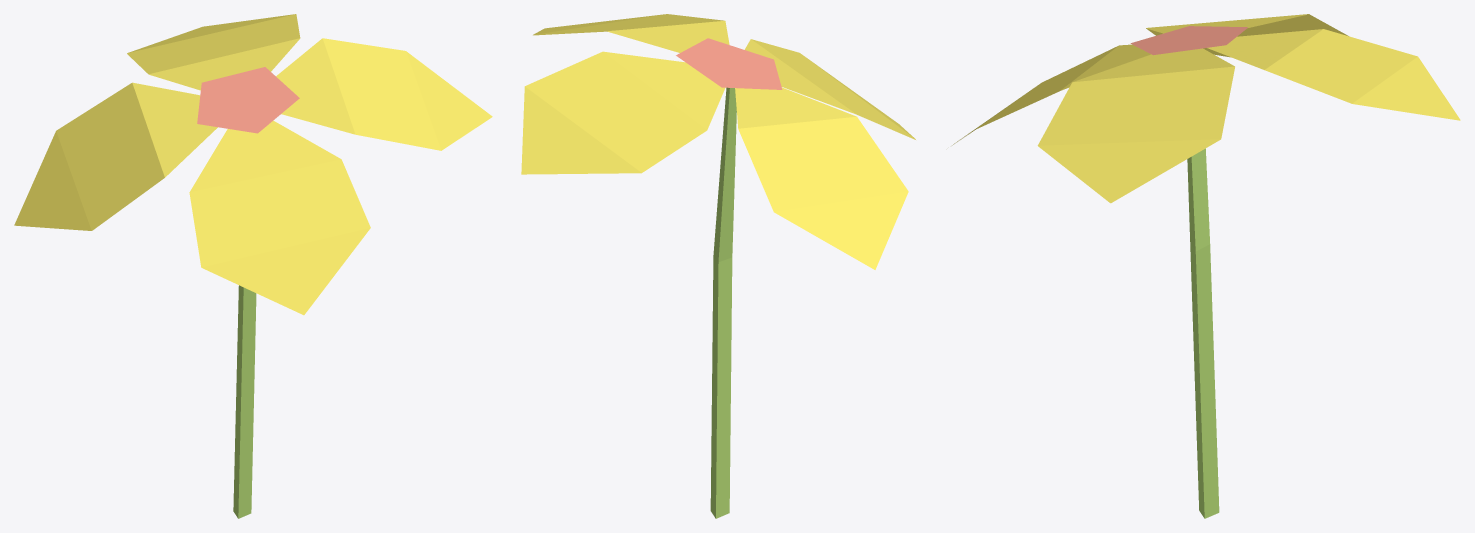
The model's file is Flower_d_TwoS_02.fbx.
3 views of the same model, side by side, from view 1: azimuth 30°, elevation 25°; view 2: azimuth 150°, elevation 25°; view 3: azimuth 270°, elevation 25° (orthographic). The views are drawn at different scales.
Visible parts, largest first — view 1: Flower_d_TwoS_02; view 2: Flower_d_TwoS_02; view 3: Flower_d_TwoS_02.
Boxes of the visible parts, x1,y1,x2,y2 form: Flower_d_TwoS_02: (14,14,492,518); Flower_d_TwoS_02: (521,14,915,518); Flower_d_TwoS_02: (952,14,1460,518).
Size of the model in its own units: 0.2384 by 0.2556 by 0.2395.
